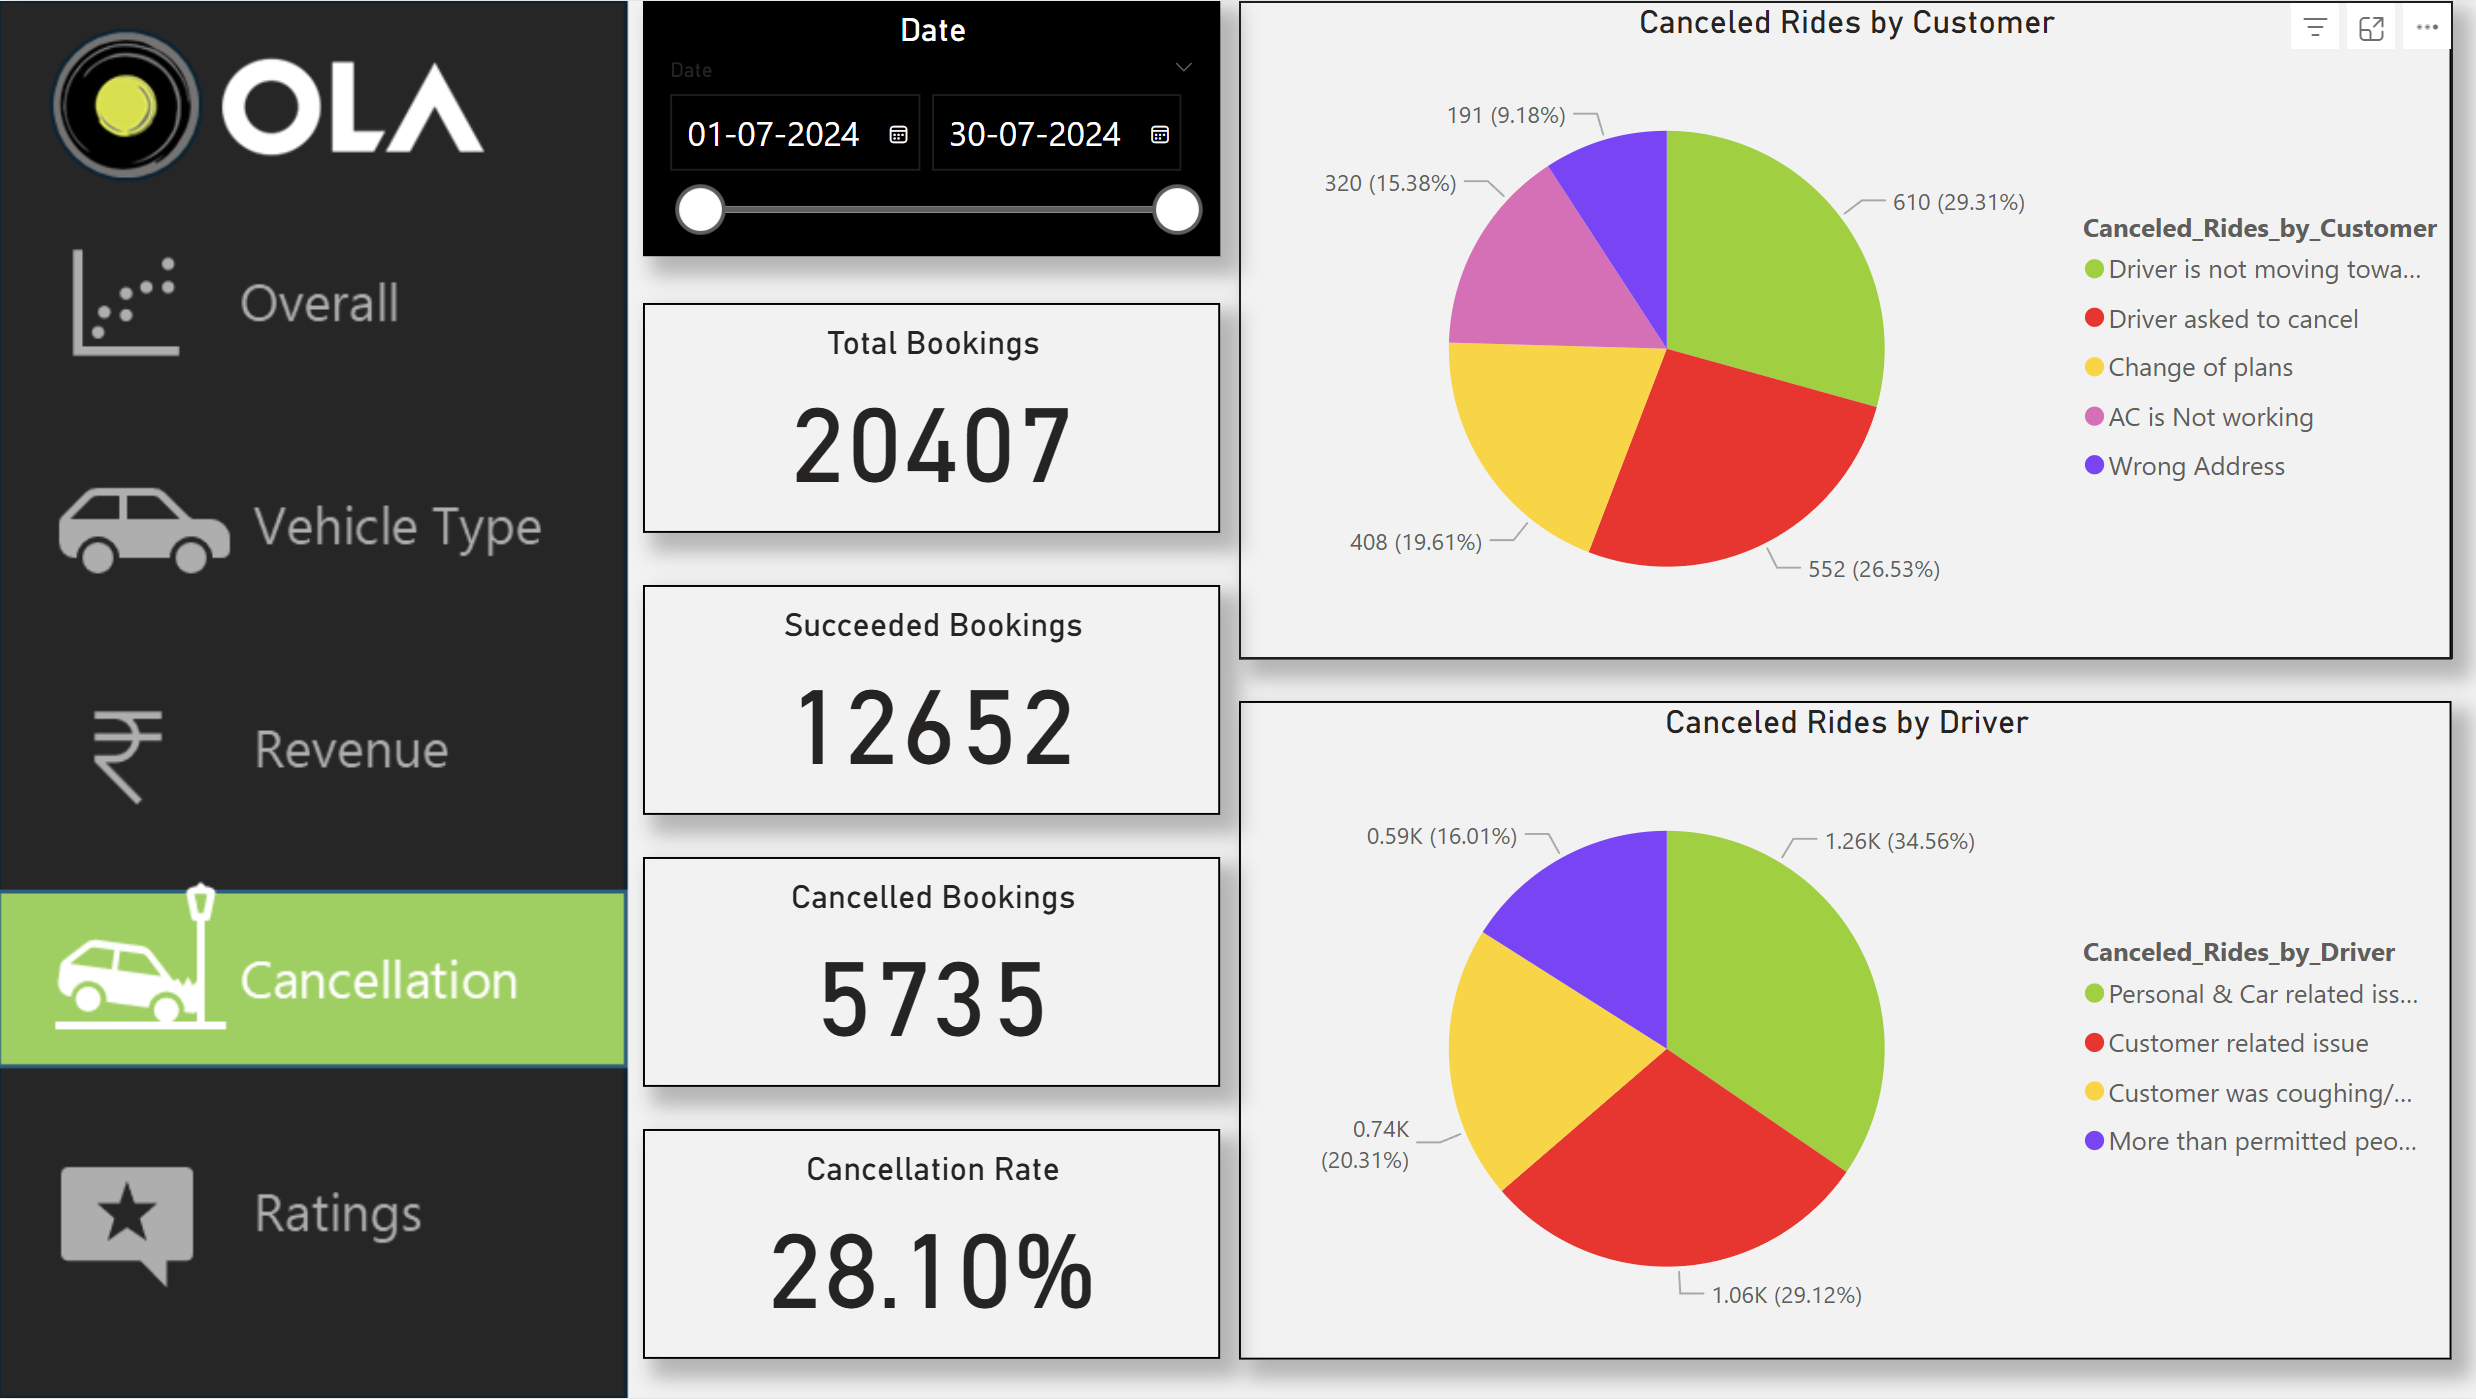

Layout of this report page (visuals, bound fields, positions):
{"tool":"powerbi","page":{"name":"Cancellation","canvas":[1280,720],"ordinal":3},"visuals":[{"type":"actionButton","box":[0,221.6,325,92],"z":0},{"type":"actionButton","box":[0,339.8,325,92],"z":1000},{"type":"actionButton","box":[0,581.8,325,92],"z":2000},{"type":"actionButton","box":[0,109.1,325,92],"z":3000},{"type":"pieChart","title":"Canceled Rides by Customer","fields":{"Y":["CountNonNull(July.Canceled_Rides_by_Customer)"],"Category":["July.Canceled_Rides_by_Customer"]},"box":[639.5,0,625,339.5],"z":4000},{"type":"pieChart","title":"Canceled Rides by Driver","fields":{"Category":["July.Canceled_Rides_by_Driver"],"Y":["CountNonNull(July.Canceled_Rides_by_Driver)"]},"box":[639.5,360.5,625,339.5],"z":5000},{"type":"slicer","title":"Date","fields":{"Values":["July.Date"]},"box":[331.6,0,297.4,131.6],"z":6000},{"type":"card","title":"Total Bookings","fields":{"Values":["CountNonNull(July.Booking_ID)"]},"box":[331.6,155.3,297.4,118.4],"z":7000},{"type":"card","title":"Succeeded Bookings","fields":{"Values":["CountNonNull(July.Booking_ID)"]},"box":[331.6,301.3,297.4,118.4],"z":8000},{"type":"card","title":"Cancelled Bookings","fields":{"Values":["CountNonNull(July.Booking_ID)"]},"box":[331.6,440.8,297.4,118.4],"z":9000},{"type":"card","title":"Cancellation Rate","fields":{"Values":["July.CanceledBookingPercentage"]},"box":[331.6,581.6,297.4,118.4],"z":10000}]}

Visuals, with their boxes on the page's 1280x720 design canvas (x1, y1, x2, y2). These are canvas units, not pixel positions in the 2476x1399 screenshot, which may show the page scaled, cropped or inside an application window:
actionButton: [left=0, top=222, right=325, bottom=314]
actionButton: [left=0, top=340, right=325, bottom=432]
actionButton: [left=0, top=582, right=325, bottom=674]
actionButton: [left=0, top=109, right=325, bottom=201]
"Canceled Rides by Customer" pieChart: [left=640, top=0, right=1264, bottom=340]
"Canceled Rides by Driver" pieChart: [left=640, top=360, right=1264, bottom=700]
"Date" slicer: [left=332, top=0, right=629, bottom=132]
"Total Bookings" card: [left=332, top=155, right=629, bottom=274]
"Succeeded Bookings" card: [left=332, top=301, right=629, bottom=420]
"Cancelled Bookings" card: [left=332, top=441, right=629, bottom=559]
"Cancellation Rate" card: [left=332, top=582, right=629, bottom=700]
